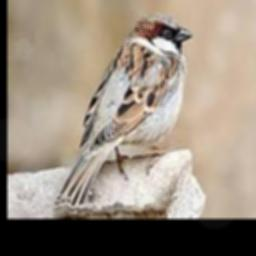Sparrow: (55, 11, 193, 207)
